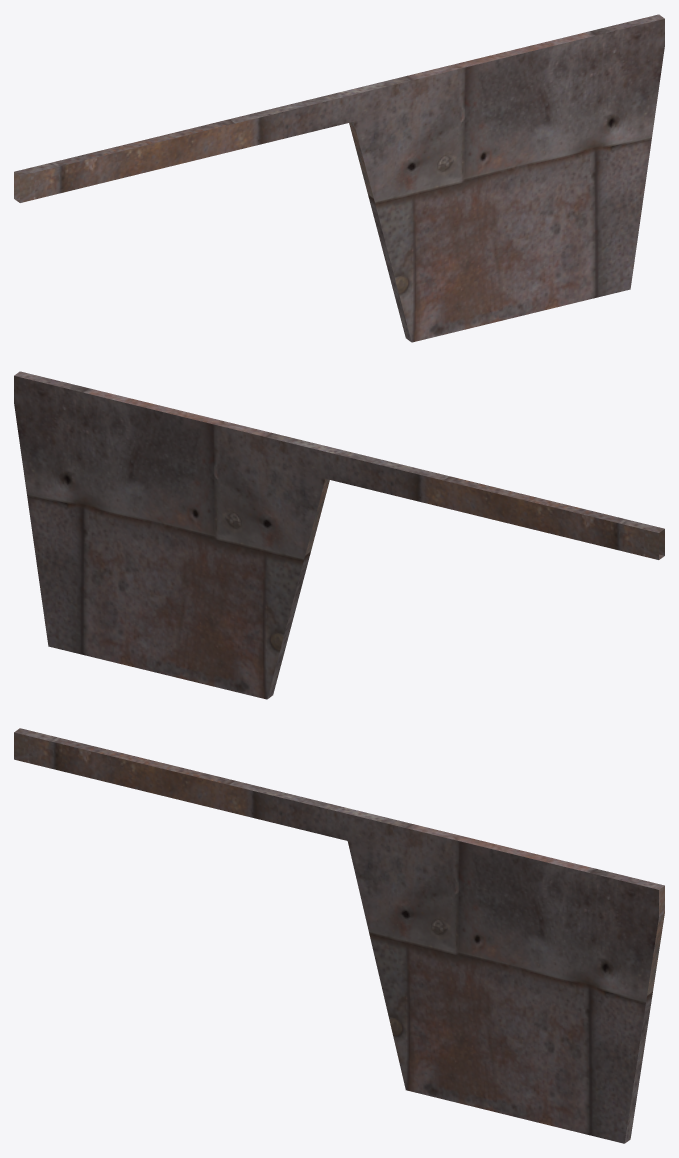
Rendered from SM_LDFest_24_03.fbx.
The picture shows the model from 3 angles, top to bottom: view 1: azimuth 30°, elevation 25°; view 2: azimuth 150°, elevation 25°; view 3: azimuth 330°, elevation 25°; orthographic projection.
Visible parts, largest first — view 1: SM_LDFest_24_03; view 2: SM_LDFest_24_03; view 3: SM_LDFest_24_03.
Boxes of the visible parts, <box> form: SM_LDFest_24_03: <box>14,14,664,342</box>; SM_LDFest_24_03: <box>14,371,664,699</box>; SM_LDFest_24_03: <box>14,728,664,1143</box>.
Bounding box in the file's own units: 2029 × 789 × 32.54.
